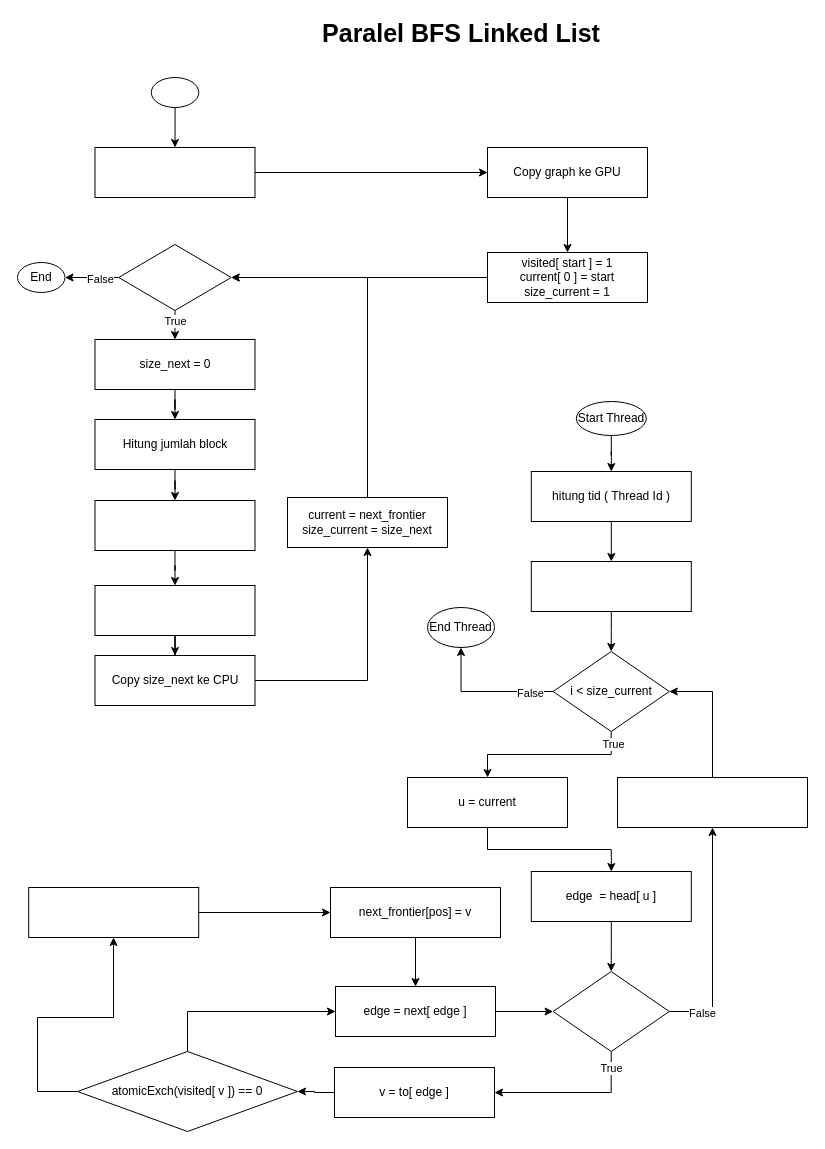
Image size: 825x1149. Some labels were removed from this diagram. Each missing label, with the centre of its shape:
"alokasi memori GPU" goes at pixel 174 172.
"edge != -1" goes at pixel 610 1011.
"i = i + bockDim.x * gridDim.x" goes at pixel 712 802.
"i = tid" goes at pixel 610 586.
"Launch bfs_kernel" goes at pixel 174 525.
"pos = atomicAdd(size_next)" goes at pixel 113 912.
"Sinkronisasi GPU" goes at pixel 174 610.
"size_current > 0" goes at pixel 174 277.
